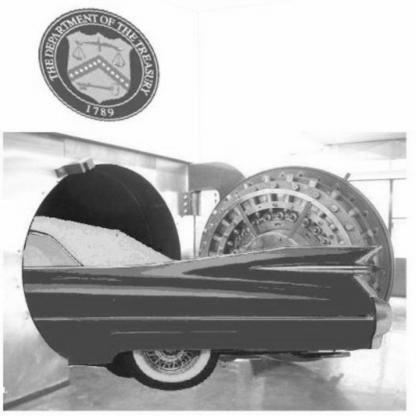car: (11, 208, 386, 407)
